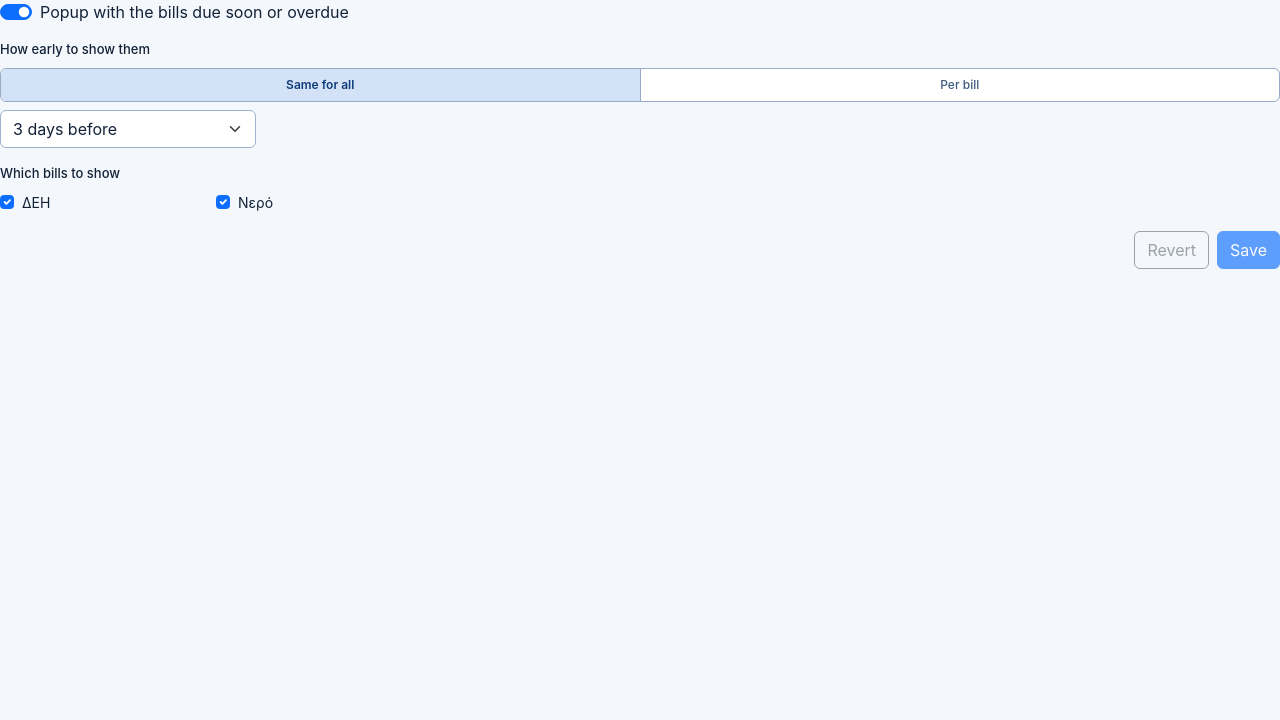
the bills popup's settings › per bill: each its own reach, starting from the one for all, said by name in the confirmation
Click the button "Per bill" at (959, 84), box [640,68,1279,100]
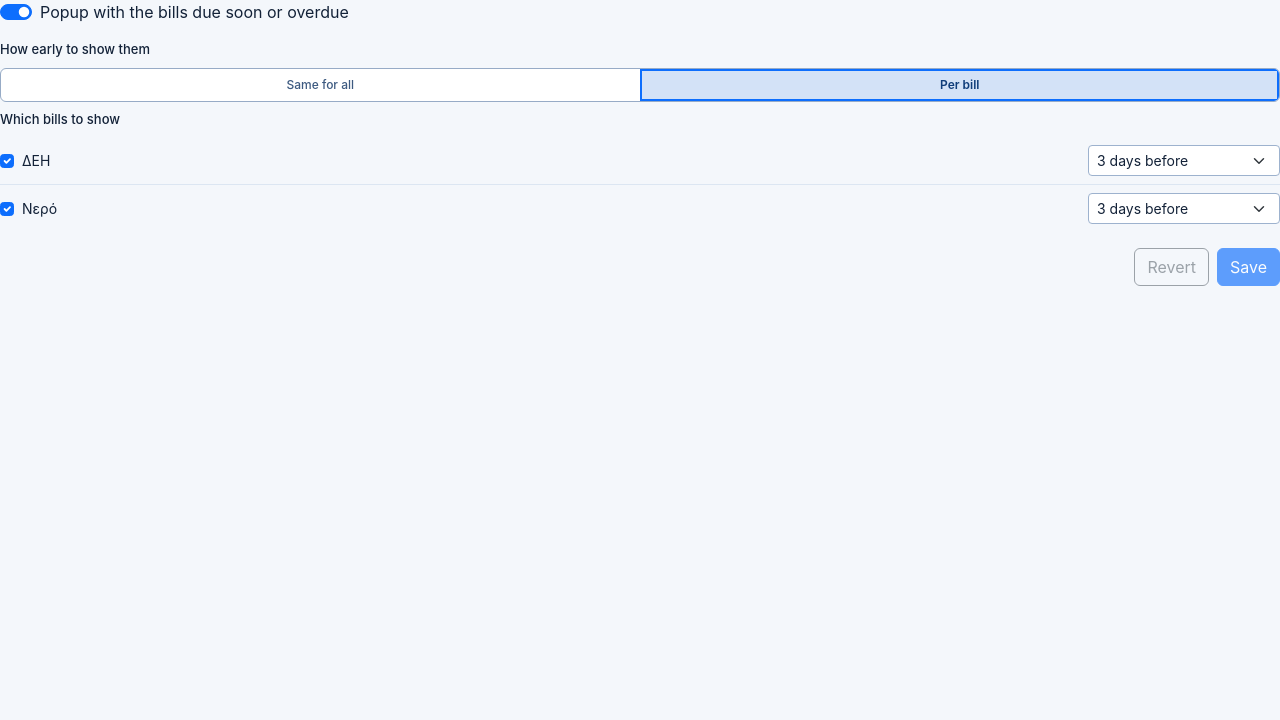
Expected: the dropdown named "How early: ΔΕΗ" shows "3 days before"
Select "2 months before" in the dropdown named "How early: ΔΕΗ" at (1184, 160), box [1088,145,1279,176]
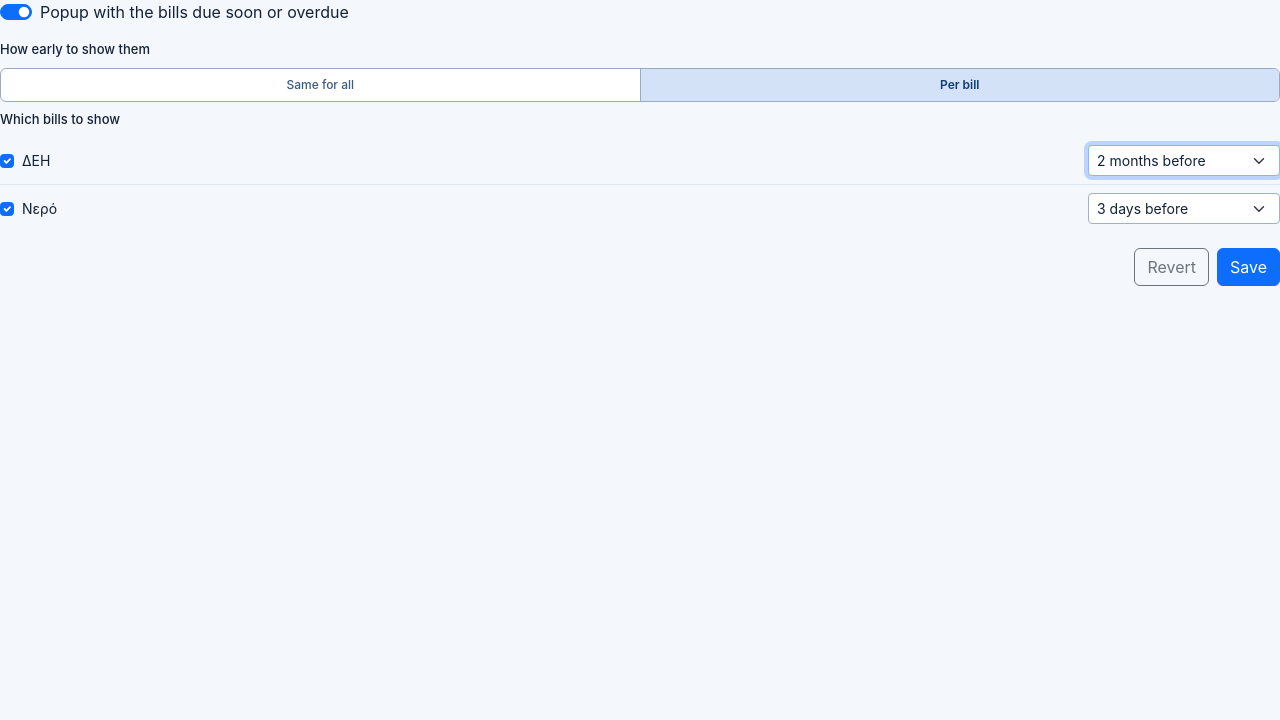
Click the button "Save" at (1248, 267), box [1217,248,1279,286]
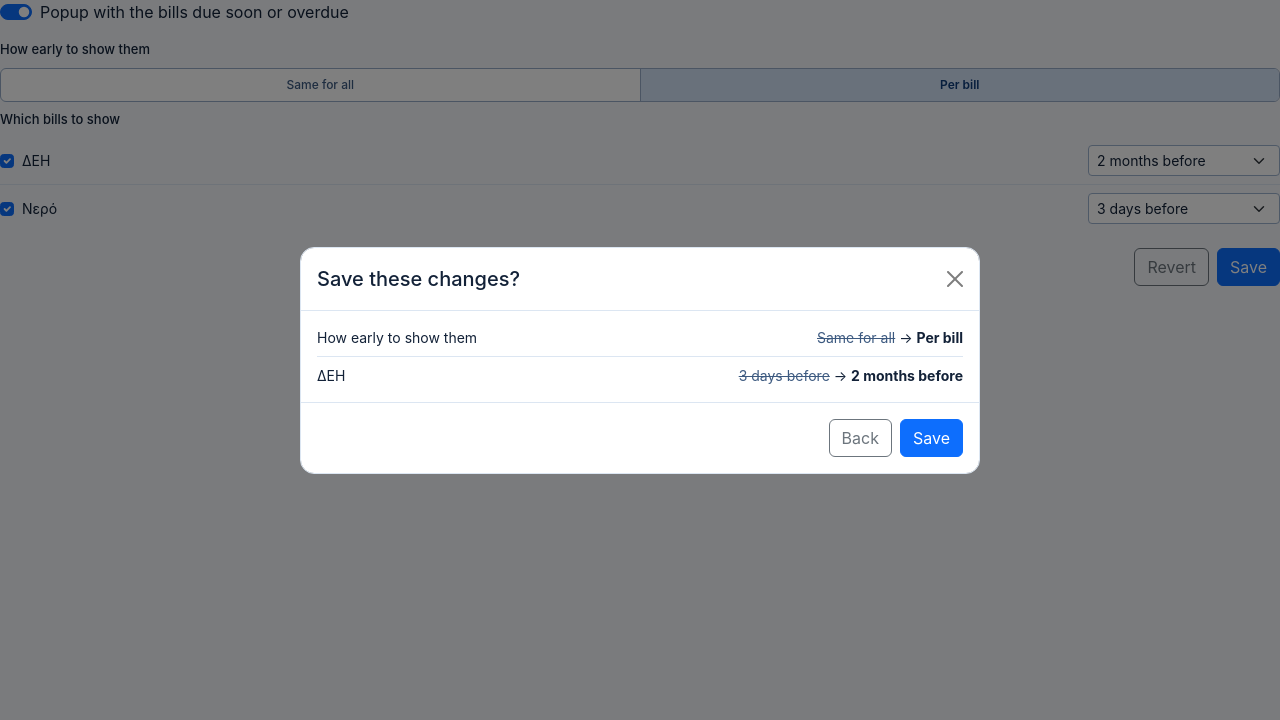
Expected: the list items read "How early to show themSame for all → Per bill", "ΔΕΗ3 days before → 2 months before", in this order, [317,326,963,356]; [317,364,963,386]
